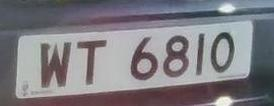0: (208, 27, 236, 79)
1: (191, 27, 210, 79)
6: (127, 31, 160, 86)
8: (160, 31, 194, 81)
T: (73, 35, 113, 92)
W: (34, 36, 74, 95)
